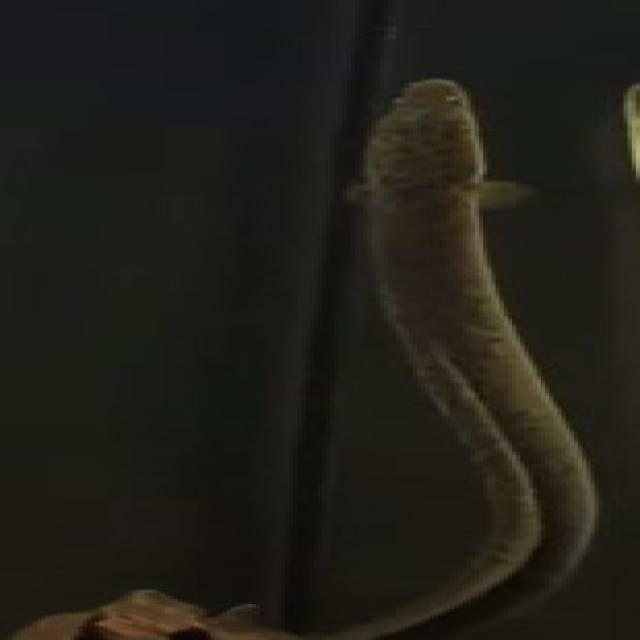Freshwater-Eel: (132, 24, 640, 640)
